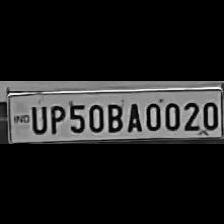0: (142, 98, 162, 130), (86, 100, 104, 132), (162, 98, 180, 130), (200, 98, 218, 130)
2: (180, 97, 200, 131)
5: (66, 99, 86, 134)
A: (124, 98, 142, 132)
B: (104, 100, 124, 132)
P: (46, 101, 64, 135)
U: (28, 102, 48, 134)
